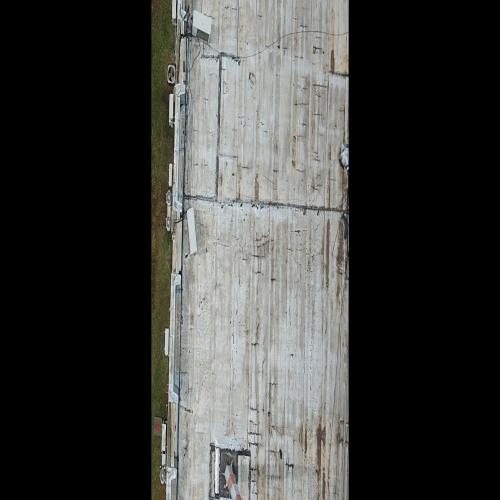conde: (192, 10, 213, 46), (187, 207, 199, 258)
